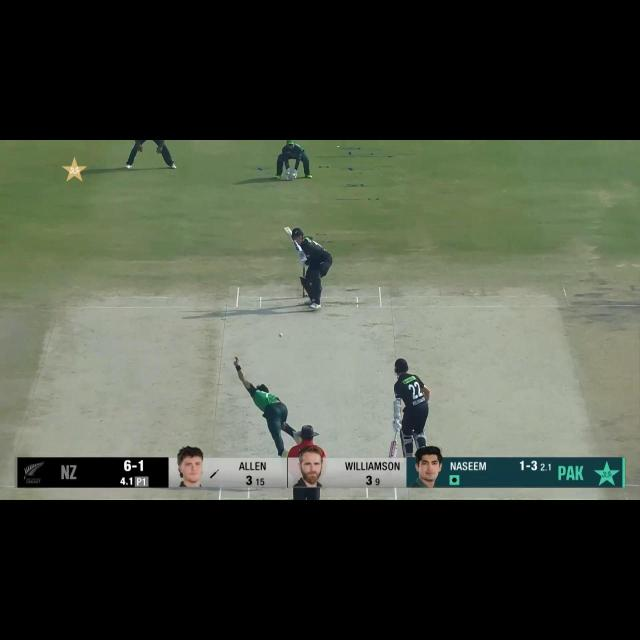bat: (283, 226, 300, 251), (388, 443, 399, 456)
toe: (282, 226, 292, 231)
